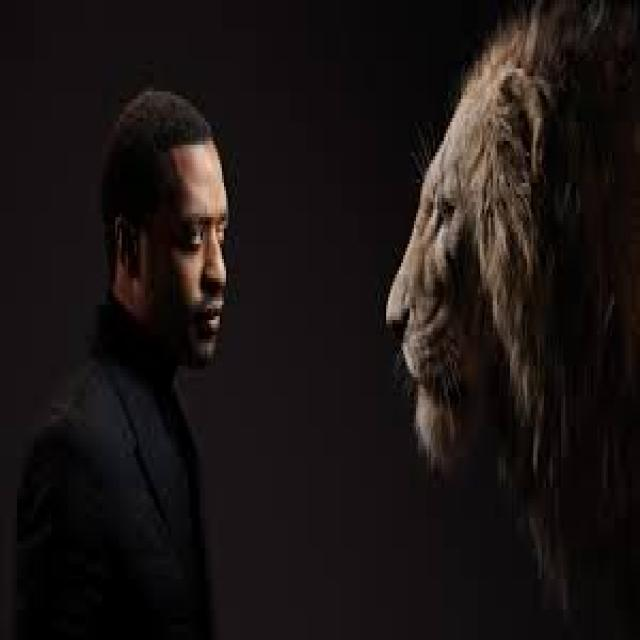Lion: (391, 11, 638, 636)
